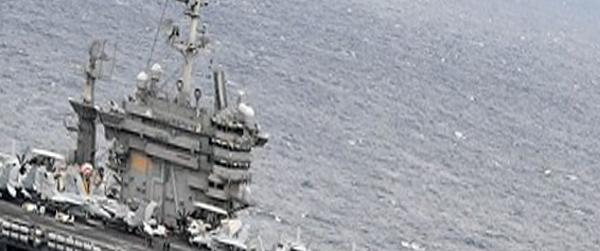rust: (132, 157, 148, 172)
